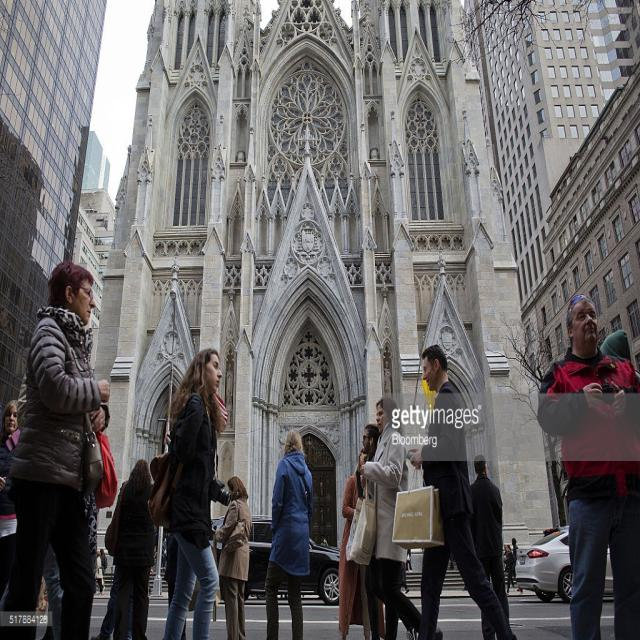body: (0, 256, 112, 640), (533, 288, 639, 639), (390, 343, 512, 639), (144, 346, 234, 639), (353, 392, 449, 639), (261, 425, 315, 639), (103, 458, 157, 640), (337, 446, 387, 640), (468, 452, 510, 640), (210, 473, 256, 639), (355, 422, 385, 640), (0, 394, 22, 597), (22, 544, 63, 632), (599, 327, 640, 392), (92, 549, 106, 594), (504, 544, 516, 595), (509, 536, 519, 585), (500, 543, 510, 579), (99, 548, 109, 576), (160, 535, 167, 573)
